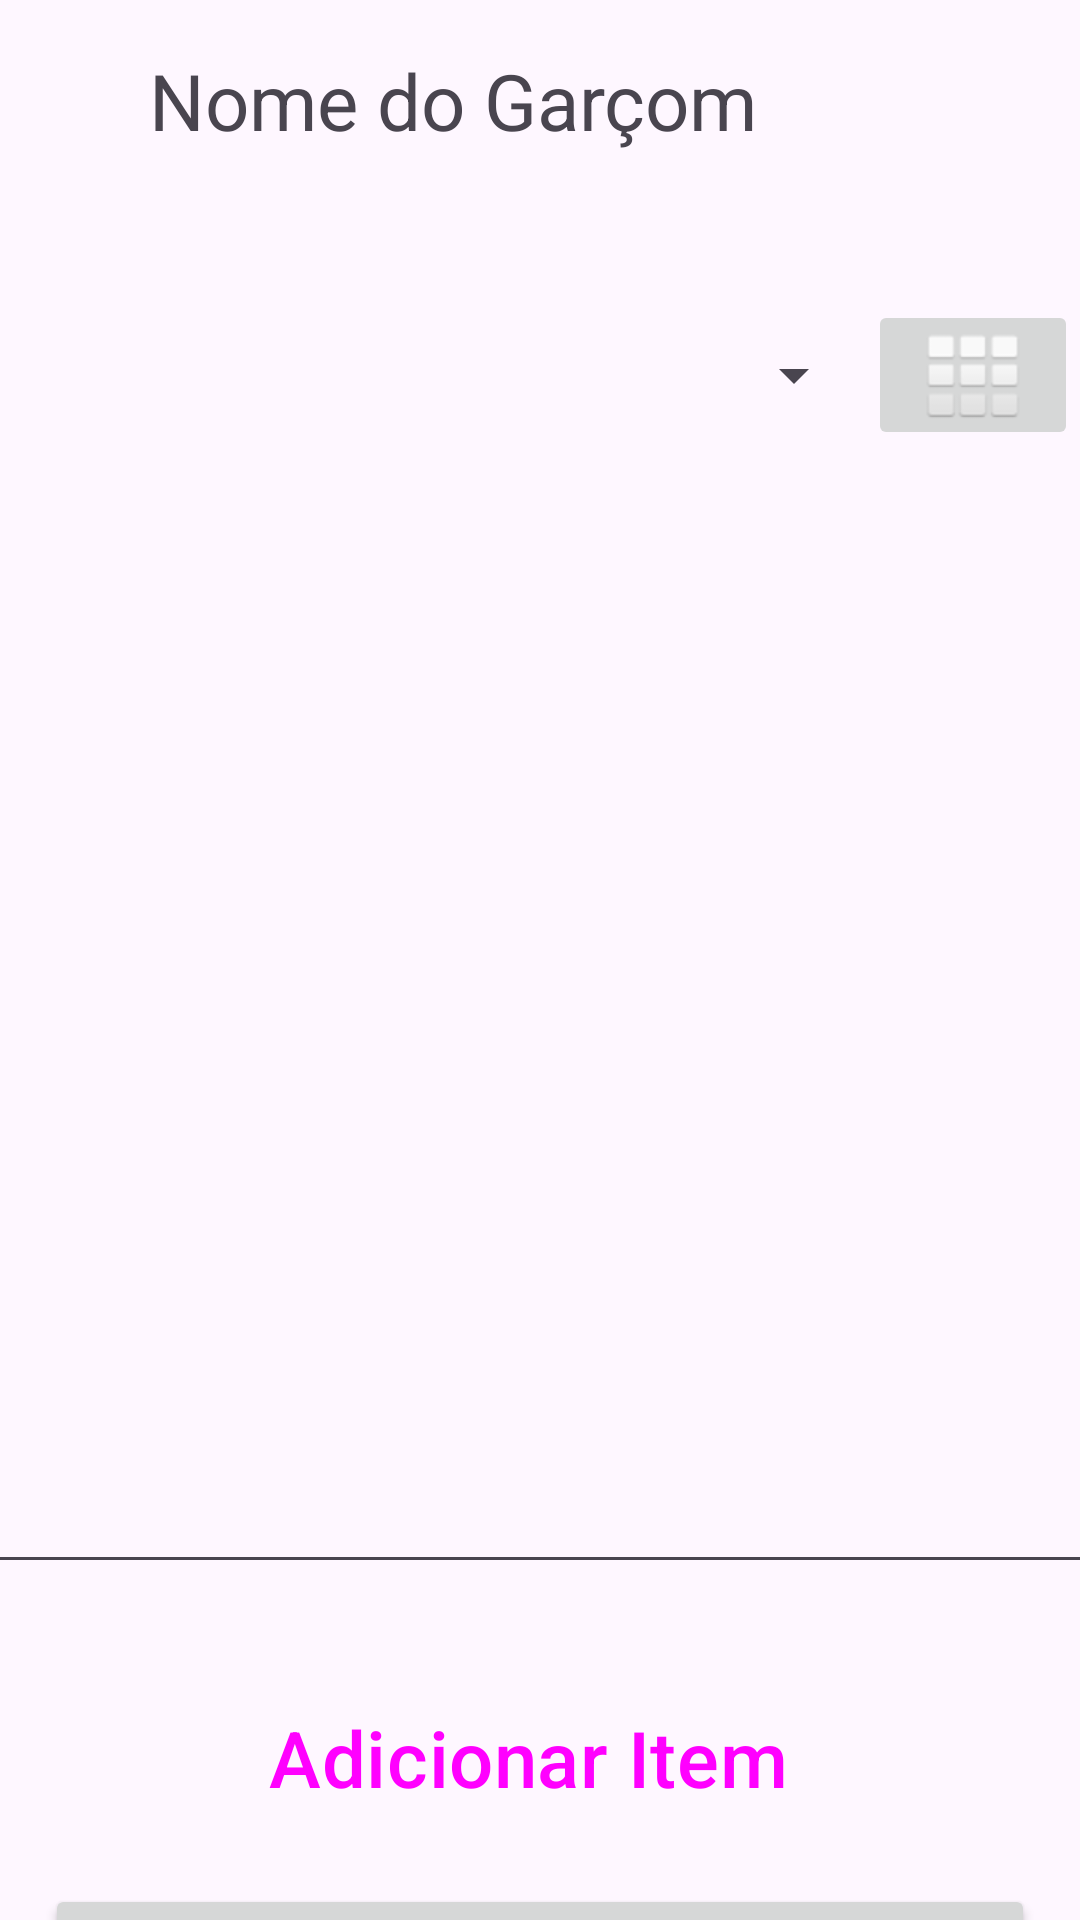

Locate icon controls on the screen. Image size 1080px x 1920px, boxes as [x1,y1,x2,y2].
dialer: [880,318,1066,432]
